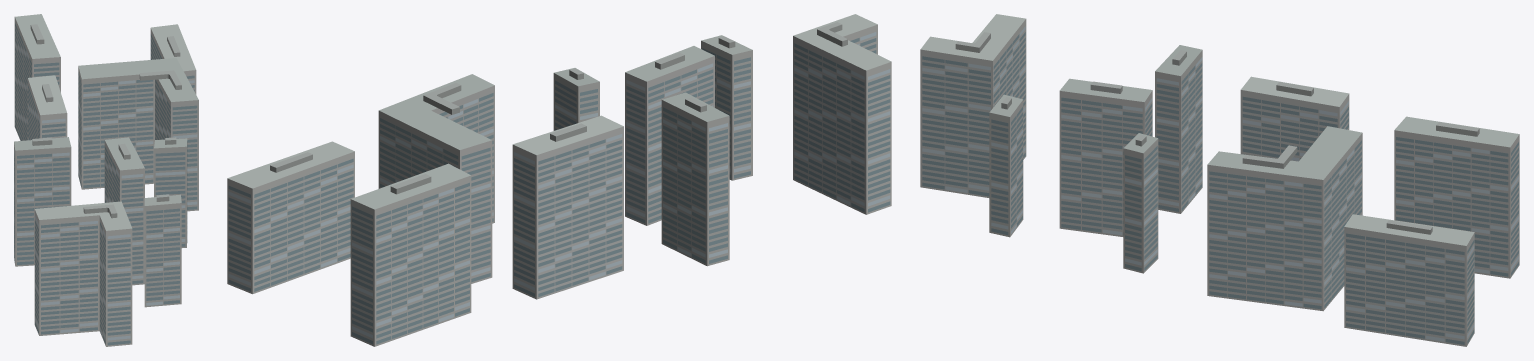
File: apt-a13006101.glb
3 views of the same model, side by side, from view 1: azimuth 30°, elevation 25°; view 2: azimuth 150°, elevation 25°; view 3: azimuth 270°, elevation 25° (orthographic). The views are drawn at different scales.
Visible parts, largest first — view 1: apt-a13006101; view 2: apt-a13006101; view 3: apt-a13006101.
Boxes of the visible parts, bbox=[...] form: apt-a13006101: bbox=[14, 14, 198, 346]; apt-a13006101: bbox=[227, 14, 891, 346]; apt-a13006101: bbox=[920, 14, 1519, 346].
Size of the model in its own units: 190 by 65 by 247.
